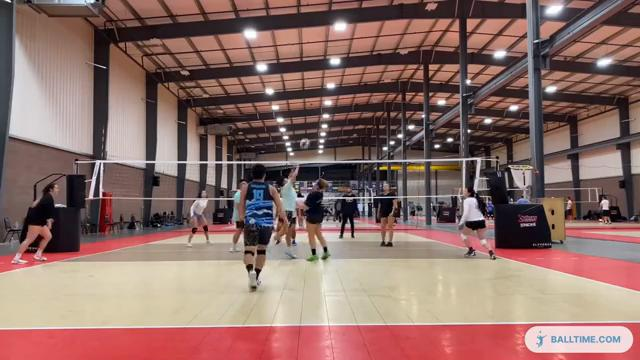Player: (238, 164, 285, 290), (12, 183, 57, 264), (459, 187, 495, 259), (305, 179, 329, 260), (187, 190, 209, 246), (229, 179, 246, 251), (378, 184, 397, 246), (339, 186, 356, 238), (296, 192, 305, 228)
Set: (273, 158, 301, 260)
ball: (300, 138, 309, 149)
